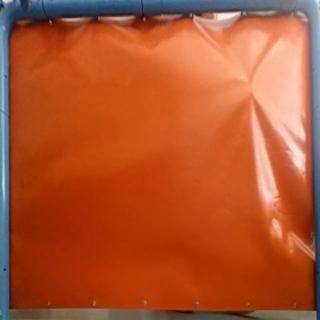Hit-hRxx: (248, 82, 260, 100)
